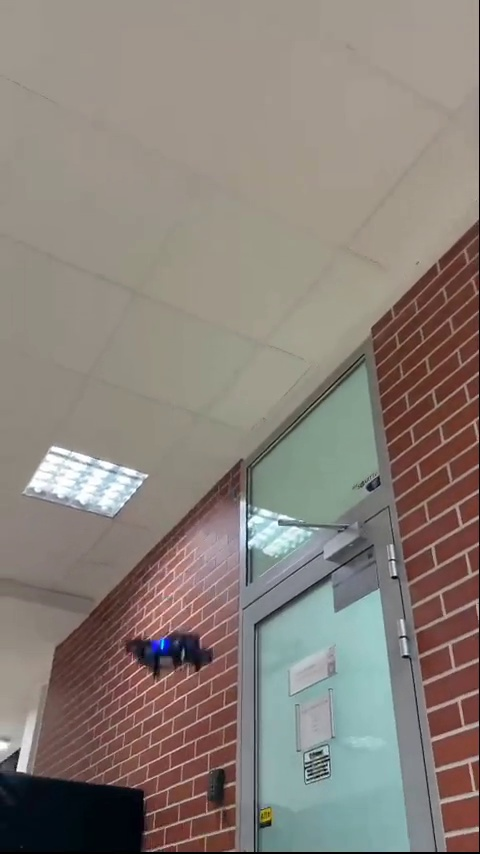drone: (128, 629, 218, 679)
